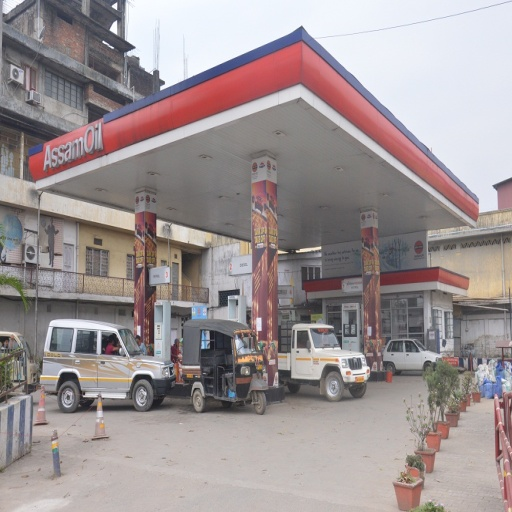roof: (29, 31, 477, 247)
